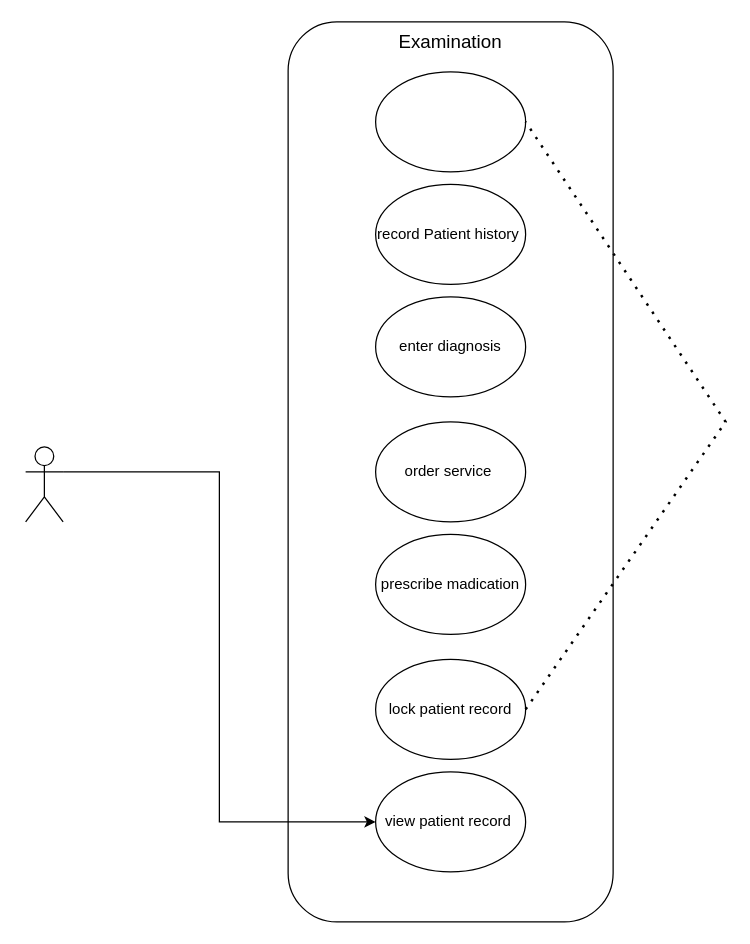
This 750x944 diagram has some shape labels left out. The centre of each missing label's shape, as x and y in pixels:
"Patient" belongs at (43,484).
"print , share result" belongs at (450,121).
